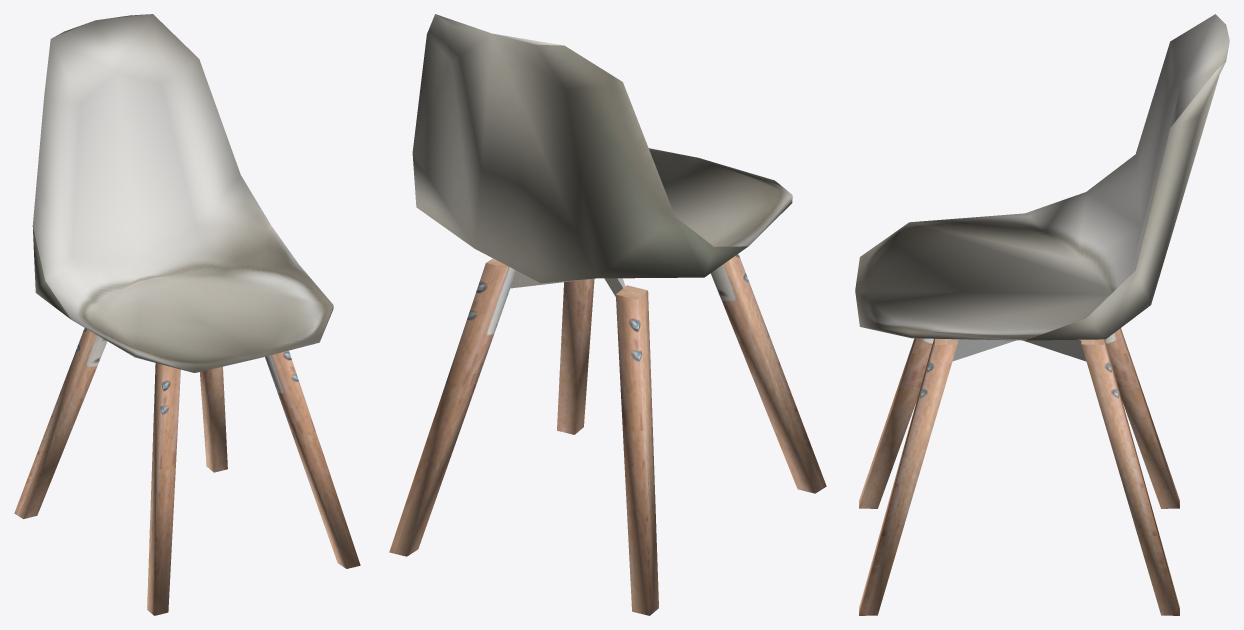
Rendered from chair.fbx.
3 views of the same model, side by side, from view 1: azimuth 30°, elevation 25°; view 2: azimuth 150°, elevation 25°; view 3: azimuth 270°, elevation 25° (orthographic). The views are drawn at different scales.
Parts seen in each view (by area): view 1: chair; view 2: chair; view 3: chair.
Part boxes in pixels (left/top/right/bottom): chair: left=14, top=14, right=360, bottom=615; chair: left=389, top=14, right=826, bottom=615; chair: left=855, top=14, right=1229, bottom=615.
Bounding box in the file's own units: 114 × 215 × 141.
